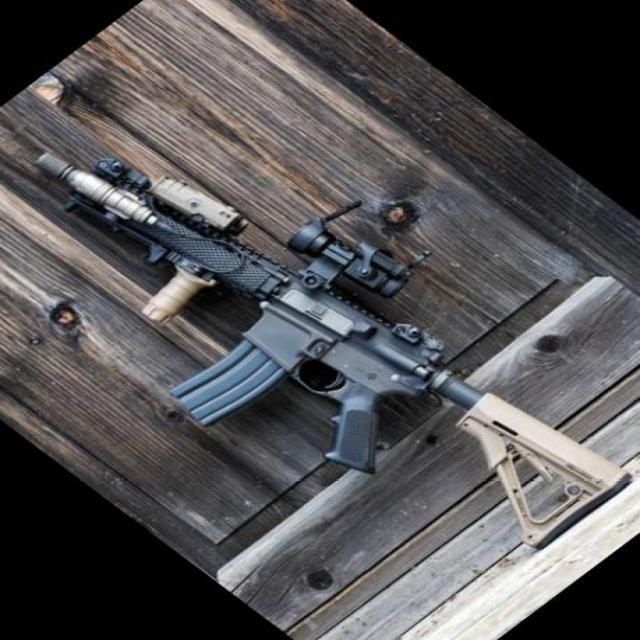weapon: (31, 150, 632, 552)
